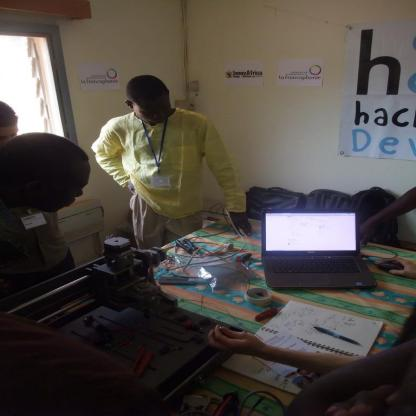board: (262, 207, 380, 293)
